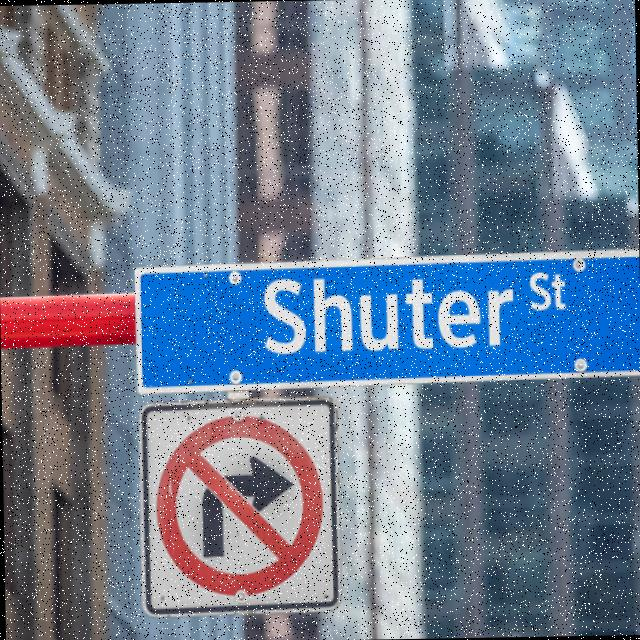do_not_turn_right: (150, 415, 326, 597)
